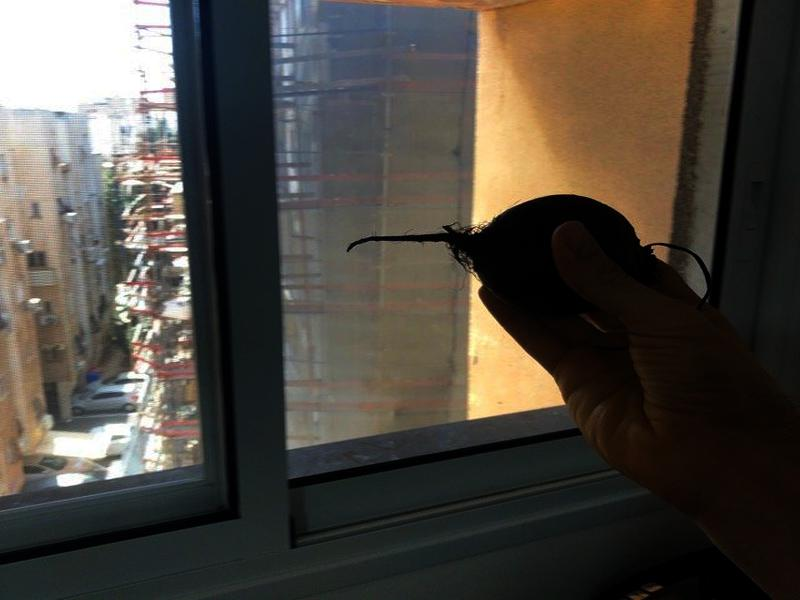Beet: (345, 194, 710, 352)
